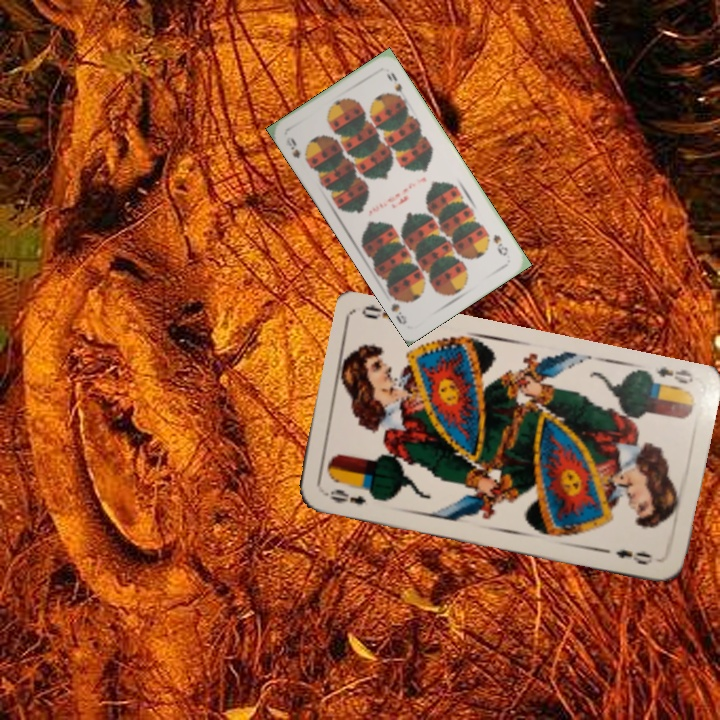EO: (319, 485, 369, 508), (653, 362, 696, 387)
S9: (282, 132, 312, 166), (489, 230, 511, 259)
